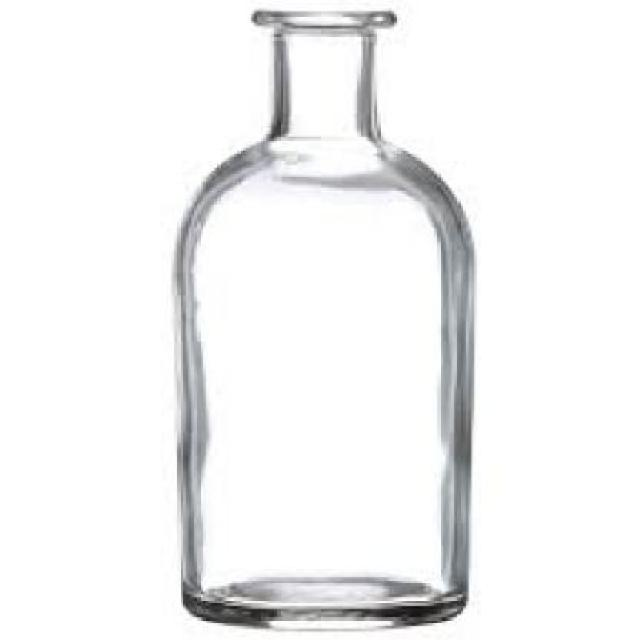kaca: (174, 6, 469, 623)
